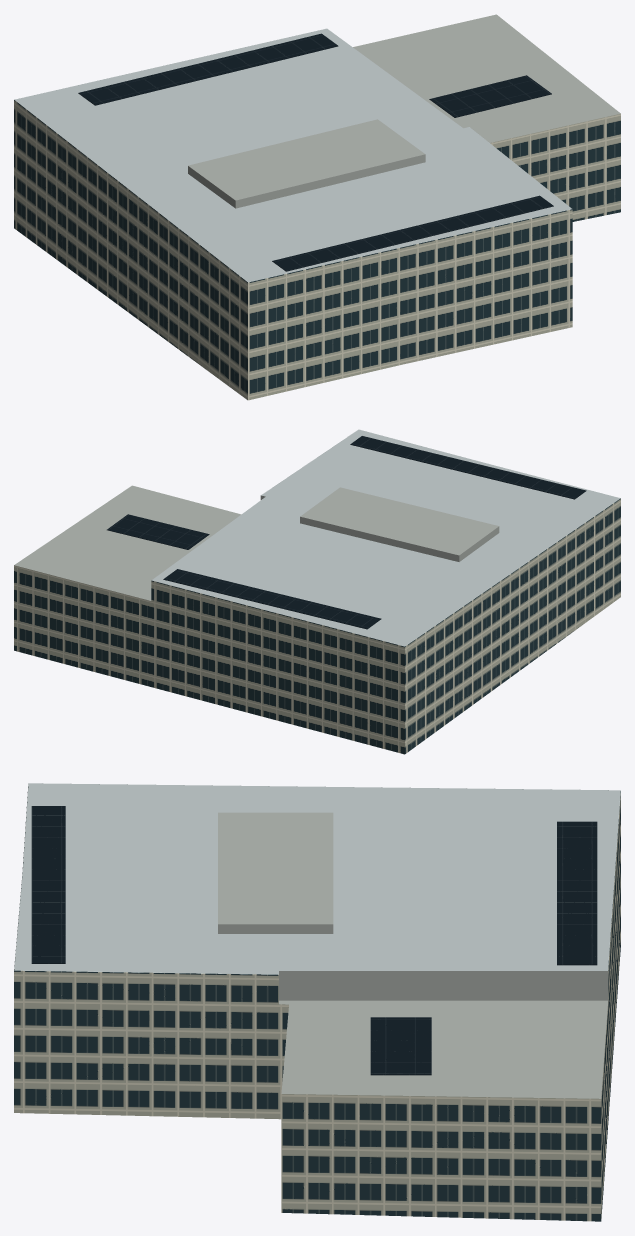
The model's file is fragments.glb.
3 views of the same model, one above another, from view 1: azimuth 30°, elevation 25°; view 2: azimuth 150°, elevation 25°; view 3: azimuth 270°, elevation 25° (orthographic). The views are drawn at different scales.
Parts seen in each view (by area): view 1: Practice_Fragment_000, Practice_Fragment_011, Practice_Fragment_001, Practice_Fragment_016, Practice_Fragment_007, Practice_Fragment_002, Practice_Fragment_036, Practice_Fragment_055, Practice_Fragment_030, Practice_Fragment_010, Practice_Fragment_009, Practice_Fragment_049 (+31 smaller); view 2: Practice_Fragment_036, Practice_Fragment_048, Practice_Fragment_062, Practice_Fragment_063, Practice_Fragment_002, Practice_Fragment_007, Practice_Fragment_034, Practice_Fragment_039, Practice_Fragment_009, Practice_Fragment_045, Practice_Fragment_030, Practice_Fragment_000 (+34 smaller); view 3: Practice_Fragment_049, Practice_Fragment_061, Practice_Fragment_063, Practice_Fragment_050, Practice_Fragment_051, Practice_Fragment_057, Practice_Fragment_055, Practice_Fragment_059, Practice_Fragment_054, Practice_Fragment_014, Practice_Fragment_007, Practice_Fragment_053 (+25 smaller).
Boxes of the visible parts, box(x1,y1,x2,y2) form: Practice_Fragment_000: box(218, 245, 320, 400); Practice_Fragment_011: box(344, 210, 477, 324); Practice_Fragment_001: box(276, 229, 373, 383); Practice_Fragment_016: box(433, 185, 547, 305); Practice_Fragment_007: box(142, 159, 297, 282); Practice_Fragment_002: box(182, 215, 282, 377); Practice_Fragment_036: box(14, 86, 128, 198); Practice_Fragment_055: box(510, 85, 620, 171); Practice_Fragment_030: box(63, 130, 166, 240); Practice_Fragment_010: box(373, 298, 480, 370); Practice_Fragment_009: box(112, 145, 253, 258); Practice_Fragment_049: box(499, 169, 572, 334); Practice_Fragment_036: box(357, 600, 452, 702); Practice_Fragment_048: box(151, 554, 261, 647); Practice_Fragment_062: box(51, 549, 136, 675); Practice_Fragment_063: box(14, 540, 98, 660); Practice_Fragment_002: box(508, 504, 593, 640); Practice_Fragment_007: box(420, 514, 560, 600); Practice_Fragment_034: box(358, 666, 450, 754); Practice_Fragment_039: box(275, 576, 370, 675); Practice_Fragment_009: box(395, 538, 525, 635); Practice_Fragment_045: box(225, 574, 305, 665); Practice_Fragment_030: box(416, 573, 496, 669); Practice_Fragment_000: box(545, 485, 620, 616); Practice_Fragment_049: box(14, 956, 161, 1116); Practice_Fragment_061: box(371, 1073, 499, 1218); Practice_Fragment_063: box(490, 1065, 603, 1221); Practice_Fragment_050: box(144, 959, 240, 1118); Practice_Fragment_051: box(222, 961, 314, 1119); Practice_Fragment_057: box(376, 965, 497, 1044); Practice_Fragment_055: box(281, 1049, 375, 1147); Practice_Fragment_059: box(494, 968, 608, 1090); Practice_Fragment_054: box(281, 1139, 383, 1215); Practice_Fragment_014: box(89, 855, 215, 912); Practice_Fragment_007: box(193, 785, 309, 855); Practice_Fragment_053: box(302, 963, 379, 1051).
Bounding box in the file's own units: 2.8 × 0.7523 × 2.51.
Materials: 5 (2 with a texture image).
